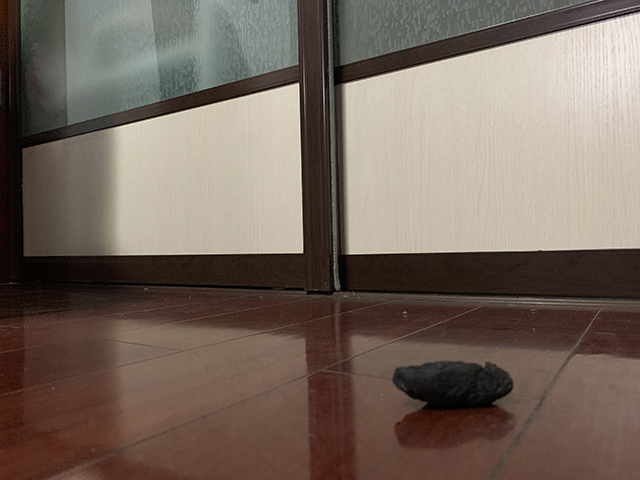feces: (393, 358, 514, 408)
